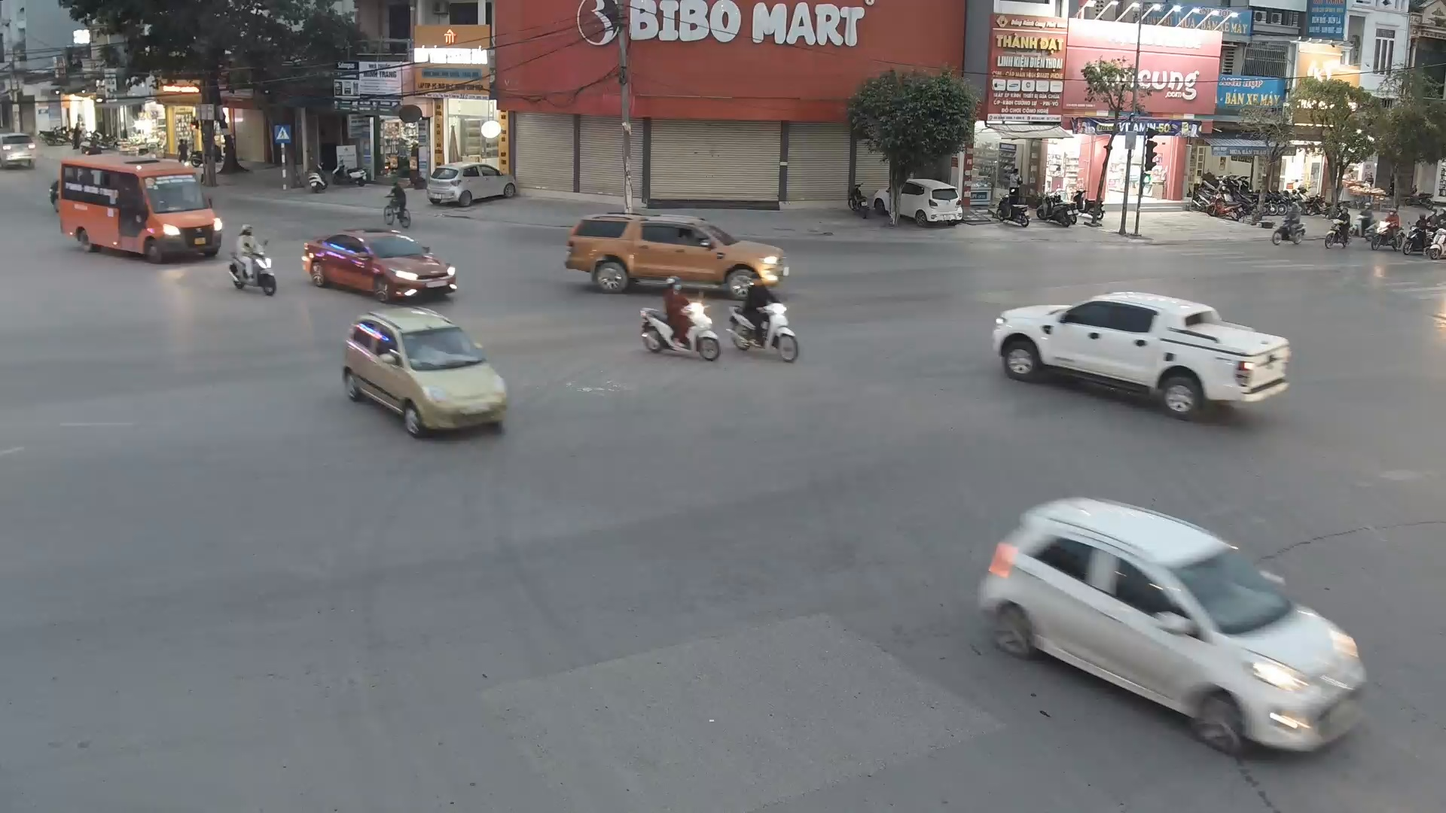car: (980, 492, 1371, 757), (990, 287, 1292, 418), (342, 309, 509, 439), (563, 207, 790, 295), (55, 154, 223, 263), (301, 227, 459, 303), (0, 130, 38, 172)
motorbike: (638, 277, 724, 362), (725, 276, 803, 363), (226, 223, 280, 297)
